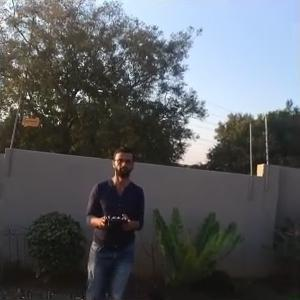follow: (81, 141, 148, 298)
